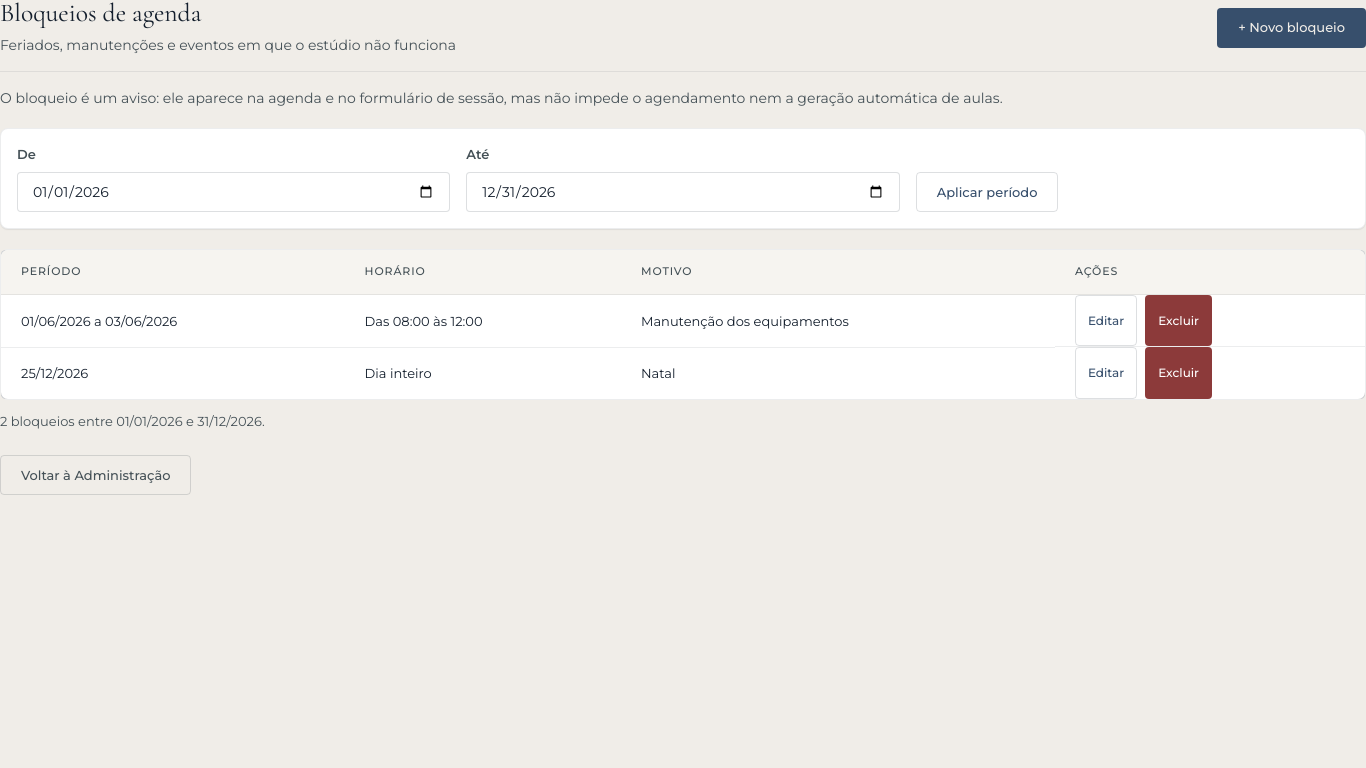
Test: BloqueioListComponent › exclusão › should ask for confirmation before deleting
The image size is (1366, 768).
Click the button with class "btn-danger" in the row of "01/06/2026 a 03/06/2026": (1179, 321) [1145,295,1212,346]
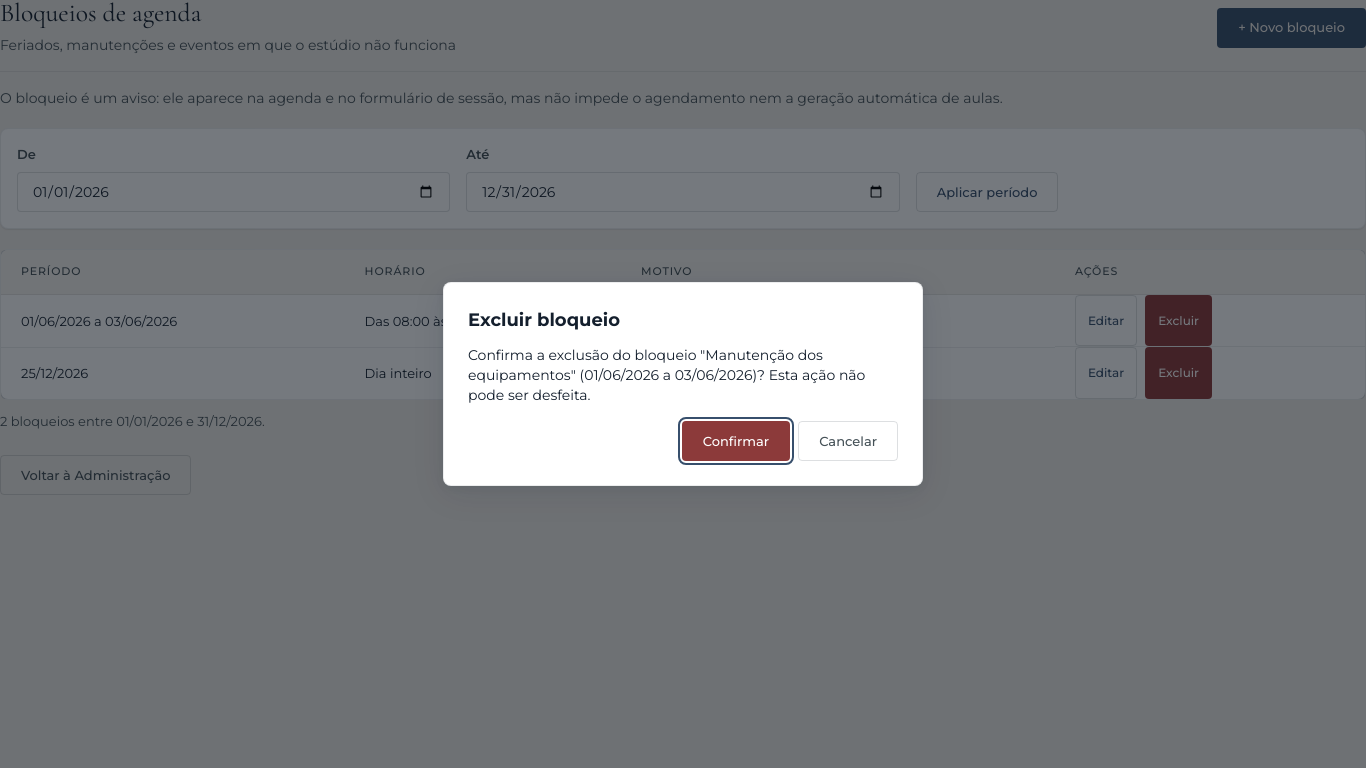
Expected: the heading with class "dialog-title" reads "Excluir bloqueio", [468,308,620,330]
Expected: the text "Manutenção dos equipamentos" is shown, [468,346,865,404]
